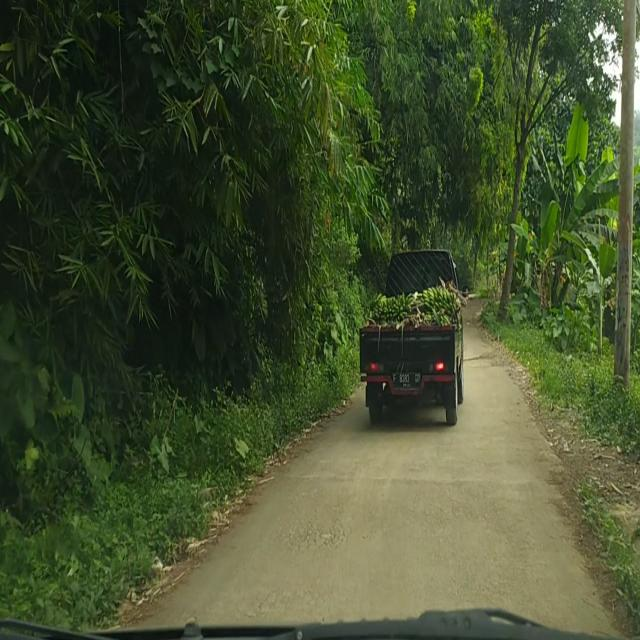Drain Hole: (281, 511, 347, 548)
